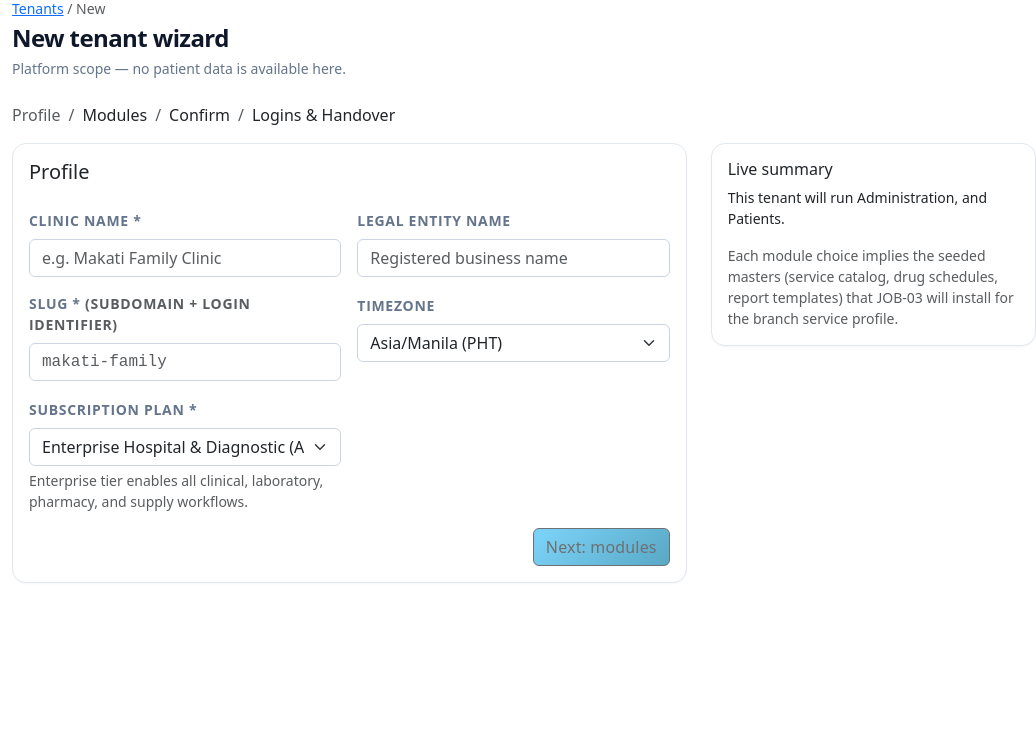
Test: Platform console (todo §1.7) › wizard auto-ticks dependencies and shows the live summary before anything is posted
The image size is (1036, 749).
Type "Test Clinic" into the field labelled "Clinic name *".
click(185, 258); type("Test Clinic")  # box [29,239,341,277]
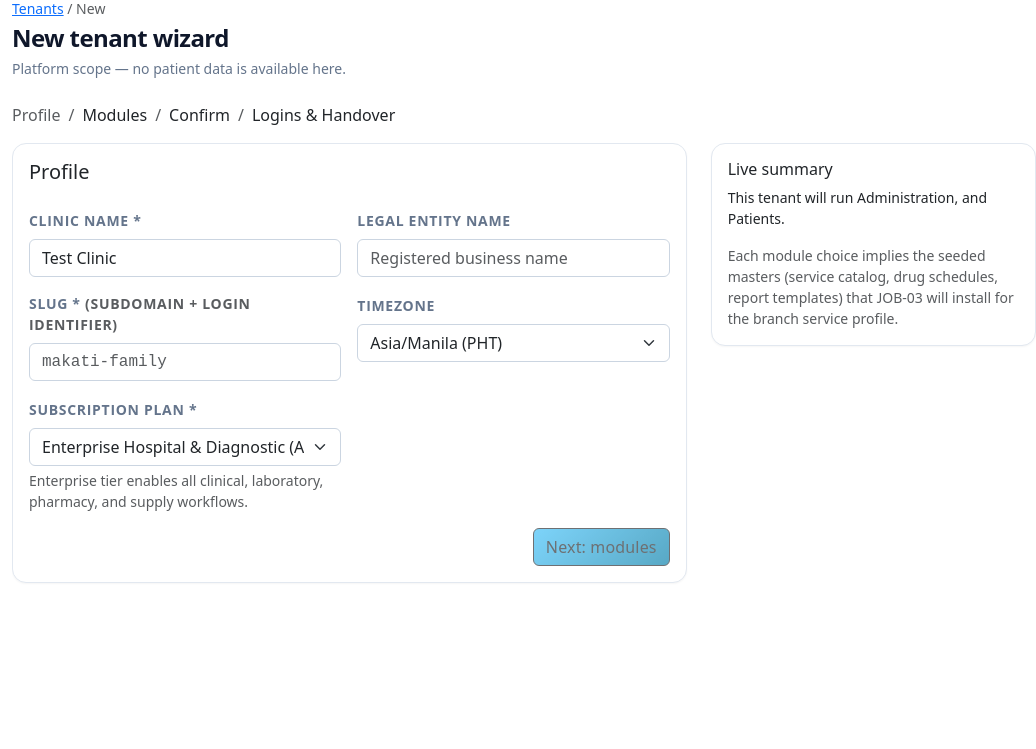
Type "test-clinic" into the field labelled "Slug * (subdomain + login identifier)".
click(185, 362); type("test-clinic")  # box [29,343,341,381]
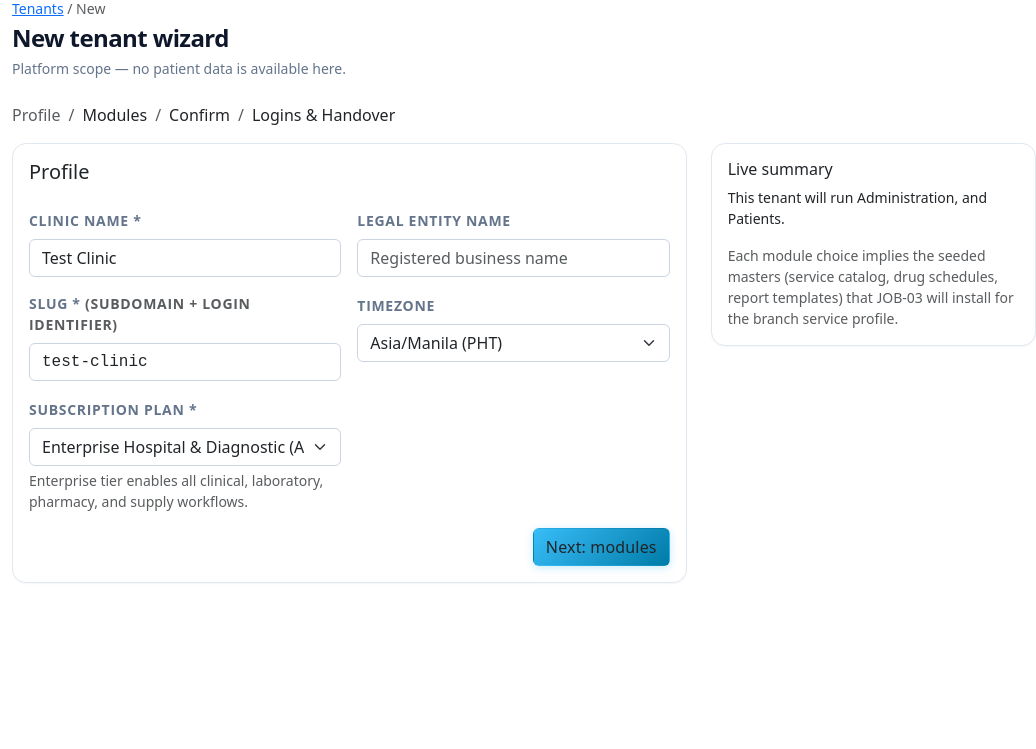
Click the button "Next: modules".
click(601, 547)  # box [533,528,670,566]
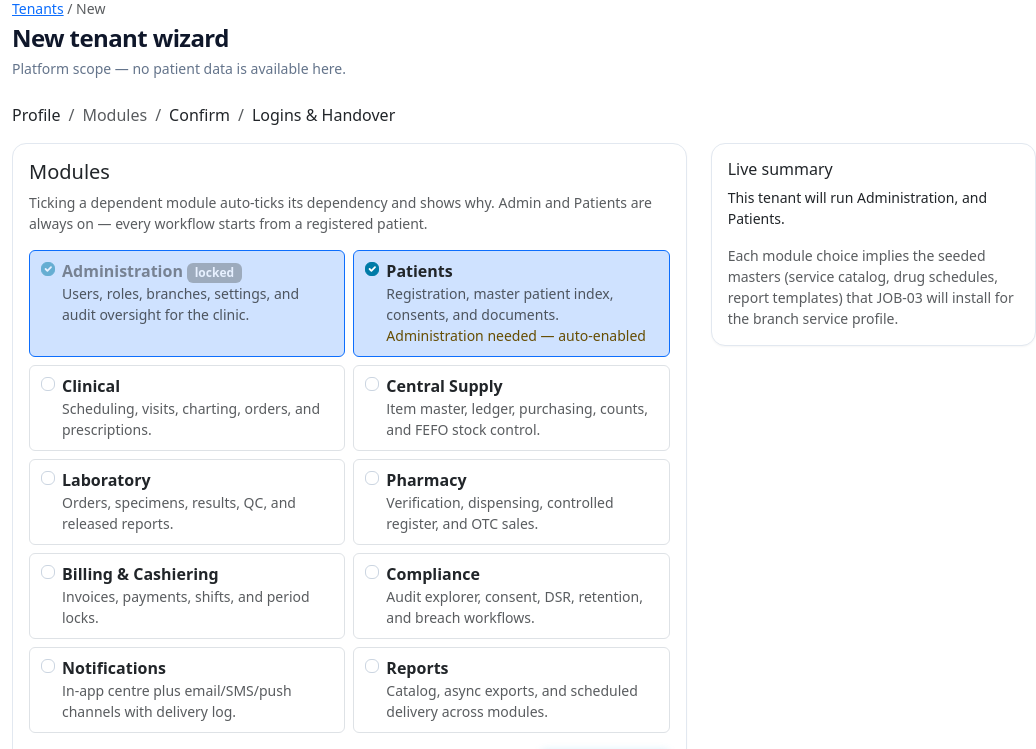
Now the checkbox labelled "Administration locked" is checked, box [41,262,55,276]
Now the checkbox labelled "Administration locked" is disabled, box [41,262,55,276]
Note: Ticking Pharmacy auto-ticks its hard dependencies (patients, supply).
Click the checkbox labelled "Pharmacy".
click(372, 478)  # box [365,471,379,485]
(page scrolled)
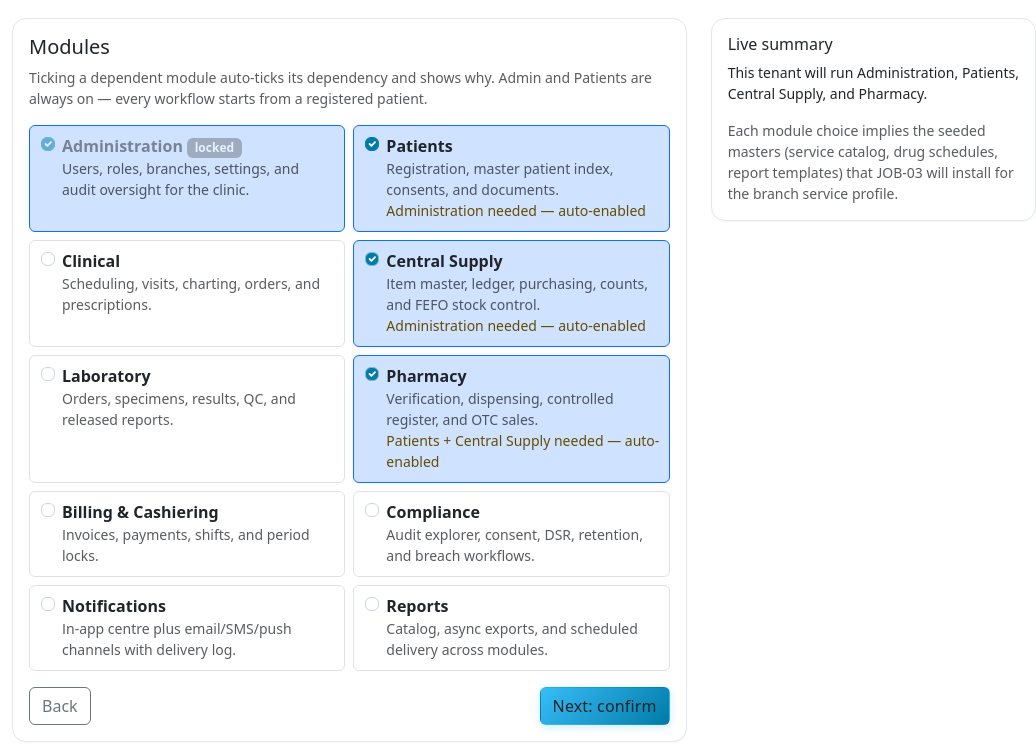
Now the checkbox labelled "Pharmacy" is checked, box [365,367,379,381]
Now the checkbox labelled "Patients" is checked, box [365,137,379,151]
Now the checkbox labelled "Central Supply" is checked, box [365,252,379,266]
Click the button "Next: confirm".
click(605, 706)  # box [540,687,670,725]
(page scrolled)
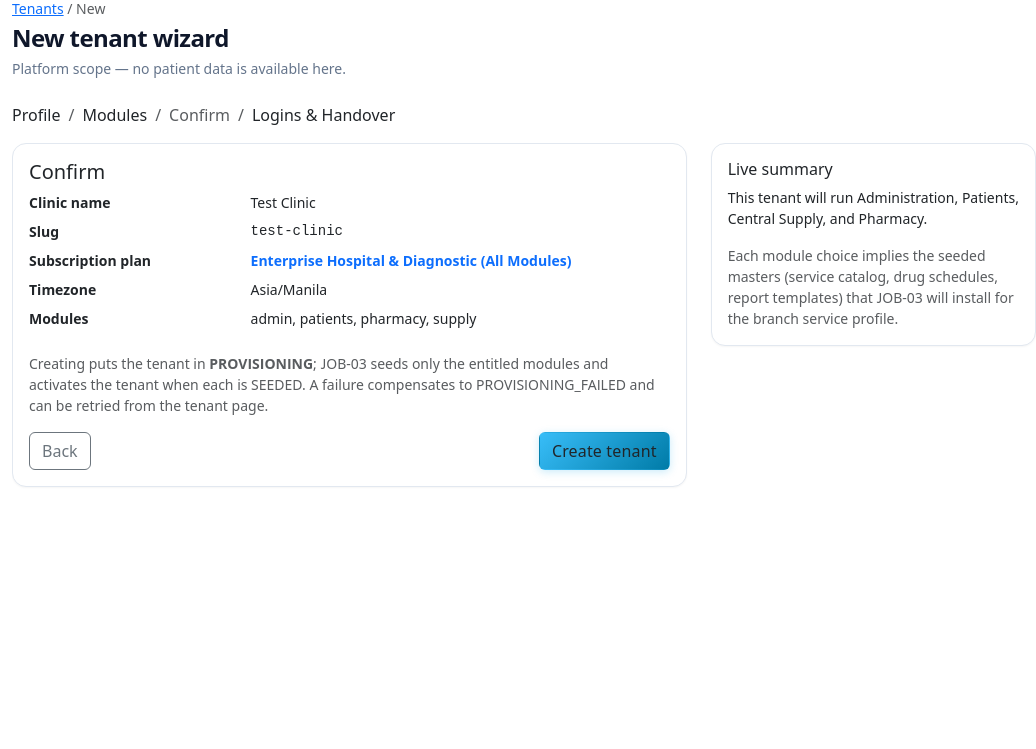
Now the text "admin, patients, pharmacy, supply" is shown, box [250,309,476,328]
